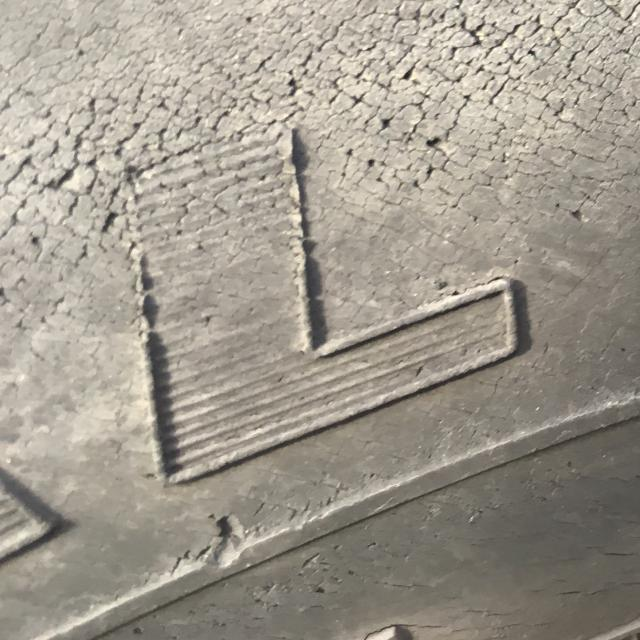Cracks: (0, 0, 637, 381), (72, 403, 640, 640)
